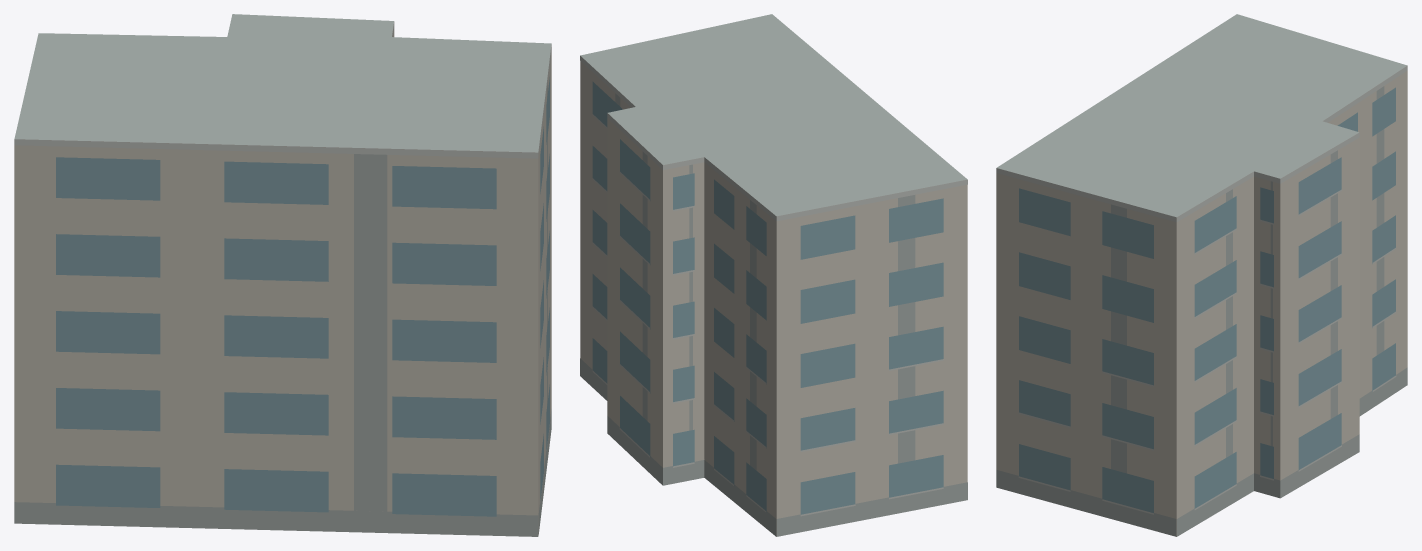
Rendered from survey-upis-32872982.glb.
The picture shows the model from 3 angles, left to right: view 1: azimuth 30°, elevation 25°; view 2: azimuth 150°, elevation 25°; view 3: azimuth 270°, elevation 25°; orthographic projection. The views are drawn at different scales.
Visible parts, largest first — view 1: survey-upis-32872982.tmp; view 2: survey-upis-32872982.tmp; view 3: survey-upis-32872982.tmp.
Part boxes in pixels (x1,y1,x2,y2): survey-upis-32872982.tmp: (14, 14, 551, 536); survey-upis-32872982.tmp: (580, 14, 967, 536); survey-upis-32872982.tmp: (996, 14, 1407, 536).
Bounding box in the file's own units: 20.81 × 15.25 × 17.8.
